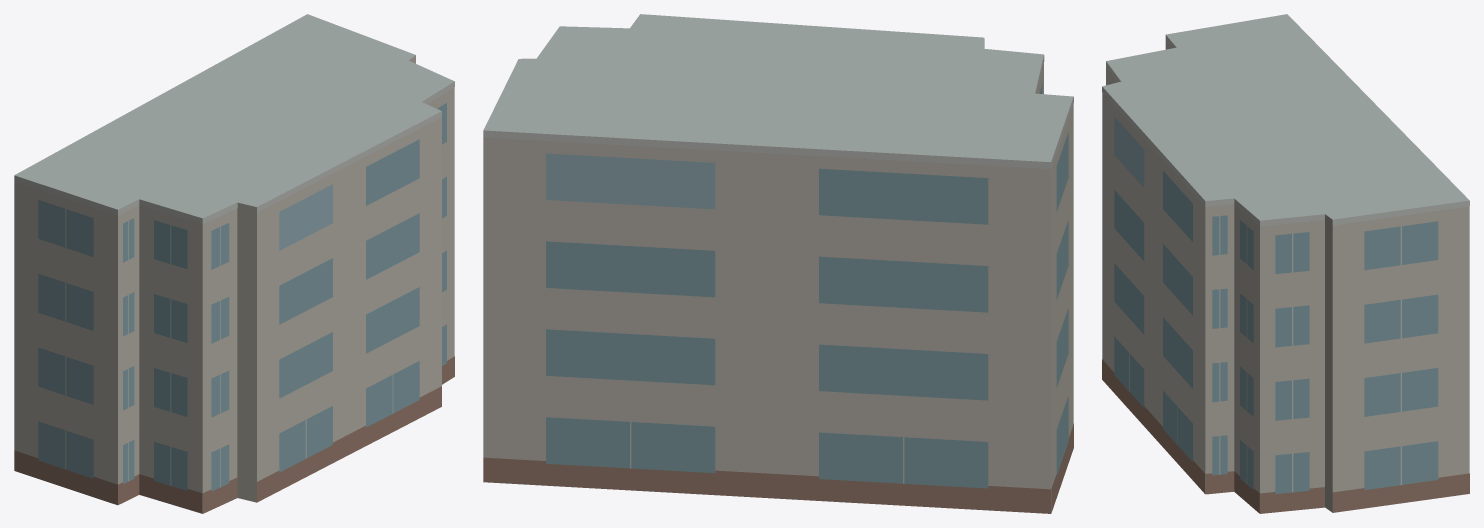
The model's file is survey-upis-32690387.glb.
The picture shows the model from 3 angles, left to right: view 1: azimuth 30°, elevation 25°; view 2: azimuth 150°, elevation 25°; view 3: azimuth 270°, elevation 25°; orthographic projection. The views are drawn at different scales.
Parts seen in each view (by area): view 1: survey-upis-32690387.tmp; view 2: survey-upis-32690387.tmp; view 3: survey-upis-32690387.tmp.
Part boxes in pixels (box(x1,y1,x2,y2)): survey-upis-32690387.tmp: box(14, 14, 454, 513); survey-upis-32690387.tmp: box(483, 14, 1073, 513); survey-upis-32690387.tmp: box(1102, 14, 1469, 513).
Size of the model in its own units: 18.75 by 12.4 by 14.1.
